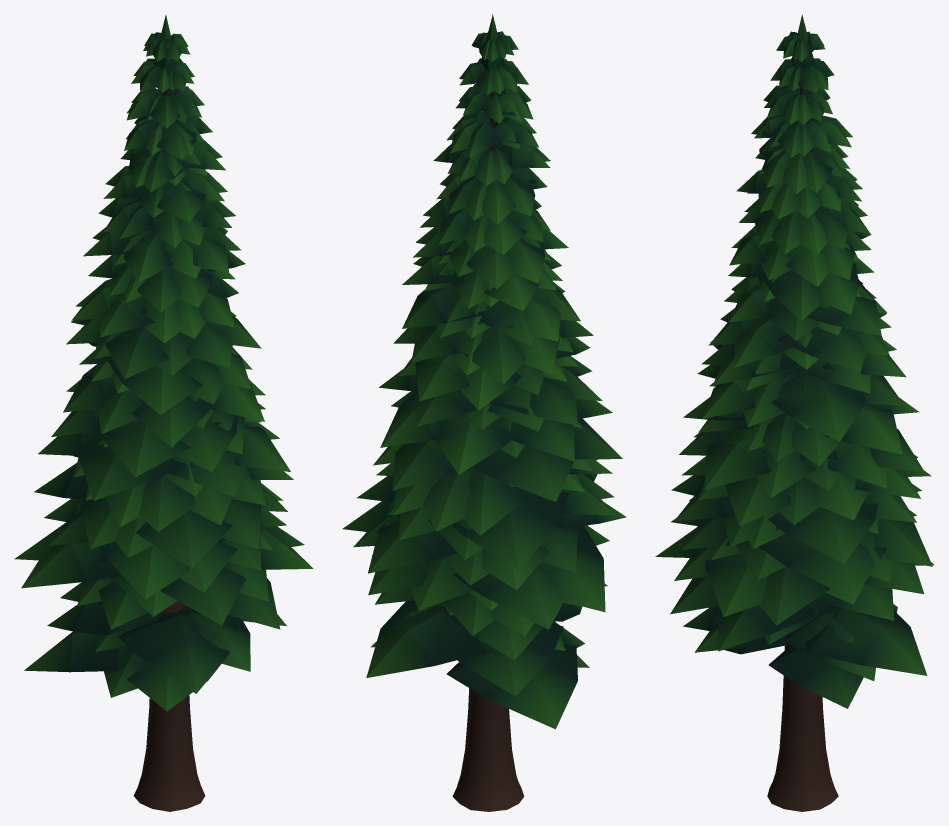
The model's file is sitka-spruce.glb.
3 renders of one model, left to right at view 1: azimuth 30°, elevation 25°; view 2: azimuth 150°, elevation 25°; view 3: azimuth 270°, elevation 25°, orthographic.
Visible parts, largest first — view 1: sitka-spruce.Leaves, sitka-spruce.Bark; view 2: sitka-spruce.Leaves, sitka-spruce.Bark; view 3: sitka-spruce.Leaves, sitka-spruce.Bark.
Part boxes in pixels (x1,y1,x2,y2): sitka-spruce.Leaves: (14, 14, 313, 711); sitka-spruce.Bark: (133, 89, 205, 811); sitka-spruce.Leaves: (342, 14, 626, 729); sitka-spruce.Bark: (452, 91, 524, 811); sitka-spruce.Leaves: (655, 14, 934, 708); sitka-spruce.Bark: (767, 87, 838, 811).
Size of the model in its own units: 5.45 by 16 by 5.2.
